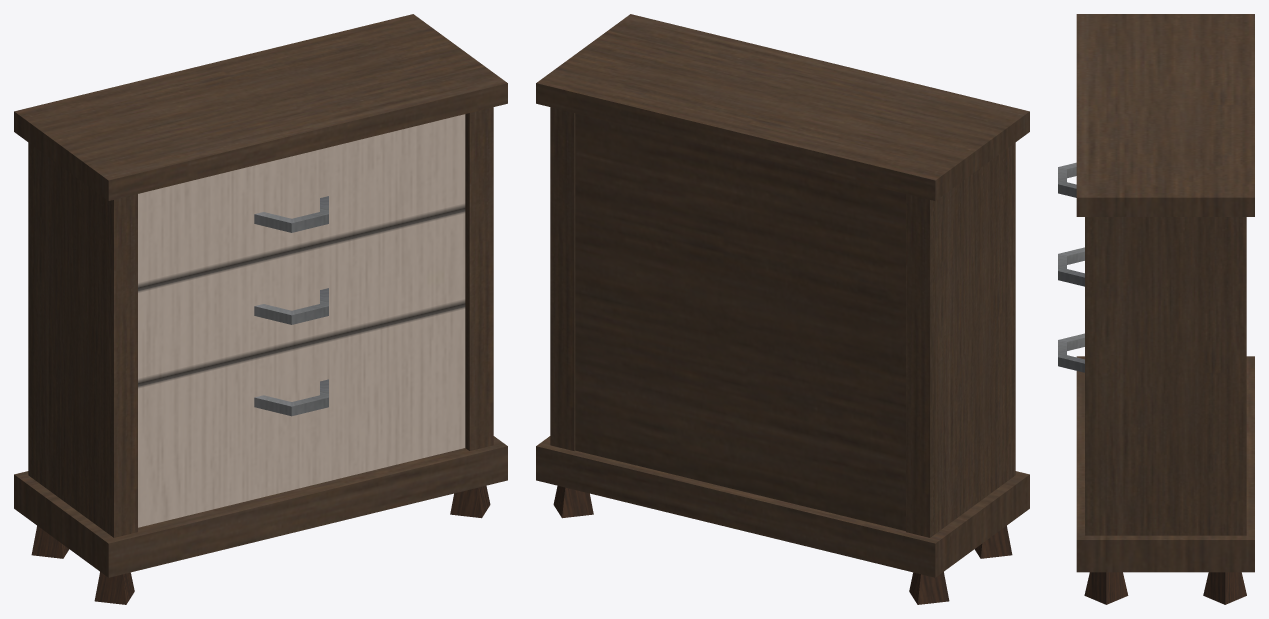
The model's file is Drawer_1C.fbx.
3 views of the same model, side by side, from view 1: azimuth 30°, elevation 25°; view 2: azimuth 150°, elevation 25°; view 3: azimuth 270°, elevation 25° (orthographic). The views are drawn at different scales.
Visible parts, largest first — view 1: polySurface325; view 2: polySurface325; view 3: polySurface325.
Part boxes in pixels (left/top/right/bottom): polySurface325: left=14, top=14, right=507, bottom=604; polySurface325: left=536, top=14, right=1029, bottom=604; polySurface325: left=1058, top=14, right=1254, bottom=604.
Size of the model in its own units: 1.83 by 1.9 by 0.8282.
